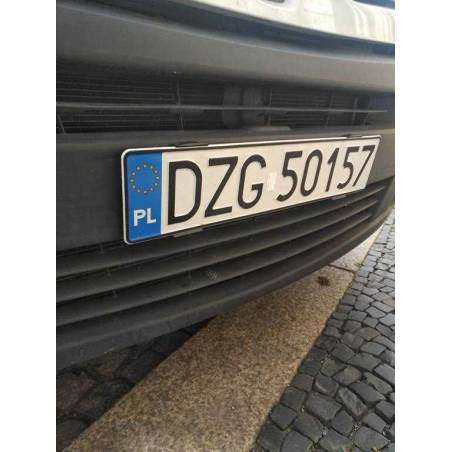number_plate: (123, 136, 380, 239)
